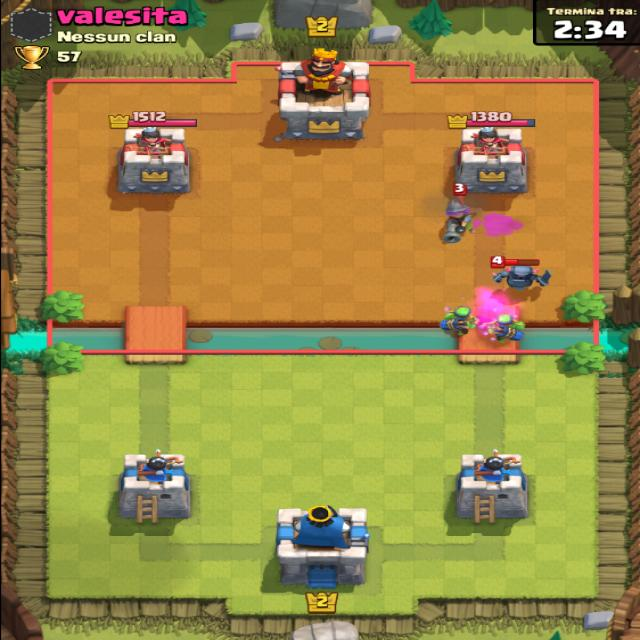Enemy-MiniPEKKA: (494, 255, 546, 292)
Enemy-Musketeer: (439, 179, 479, 247)
Player-SpearGoblin: (491, 314, 530, 343), (446, 304, 473, 341)
